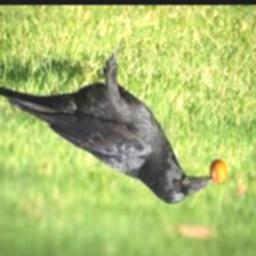Crow: (0, 53, 213, 206)
